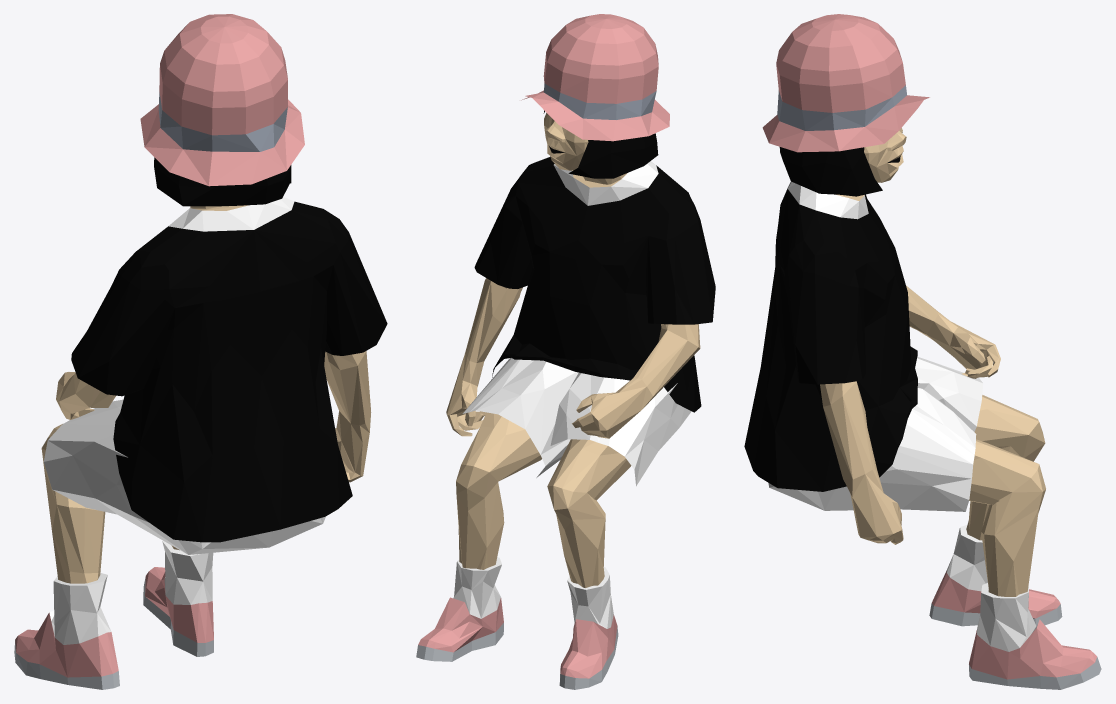
The model's file is child1.glb.
3 renders of one model, left to right at view 1: azimuth 30°, elevation 25°; view 2: azimuth 150°, elevation 25°; view 3: azimuth 270°, elevation 25°, orthographic. The views are drawn at different scales.
Parts seen in each view (by area): view 1: Group2 (×2), Group7, Group5, Group8 (×3), Group6 (×3), Group1, Group4, Group3; view 2: Group2 (×2), Group7, Group5, Group9, Group1, Group6 (×3), Group3, Group8 (×3), Group4; view 3: Group2 (×2), Group7, Group5, Group6 (×3), Group9, Group4, Group8 (×3), Group1, Group3.
Boxes of the visible parts, x1,y1,x2,y2 form: Group2 (×2): (71,197,387,542); Group7: (140,14,304,208); Group5: (44,399,325,554); Group8 (×3): (14,573,119,689); Group6 (×3): (143,540,213,656); Group1: (41,424,105,583); Group4: (324,351,371,482); Group3: (56,372,115,419); Group2 (×2): (474,156,715,412); Group7: (521,14,669,184); Group5: (462,358,691,486); Group9: (456,412,541,569); Group1: (547,439,631,587); Group6 (×3): (416,557,503,661); Group3: (572,324,700,438); Group8 (×3): (559,567,618,689); Group4: (446,278,522,436); Group2 (×2): (744,181,917,491); Group7: (762,14,929,196); Group5: (768,356,983,511); Group6 (×3): (969,583,1101,689); Group9: (969,439,1045,596); Group4: (820,381,903,544); Group8 (×3): (929,525,1062,626); Group1: (966,395,1045,540); Group3: (906,285,1000,378).
Size of the model in its own units: 17.5 by 39.08 by 19.94.
